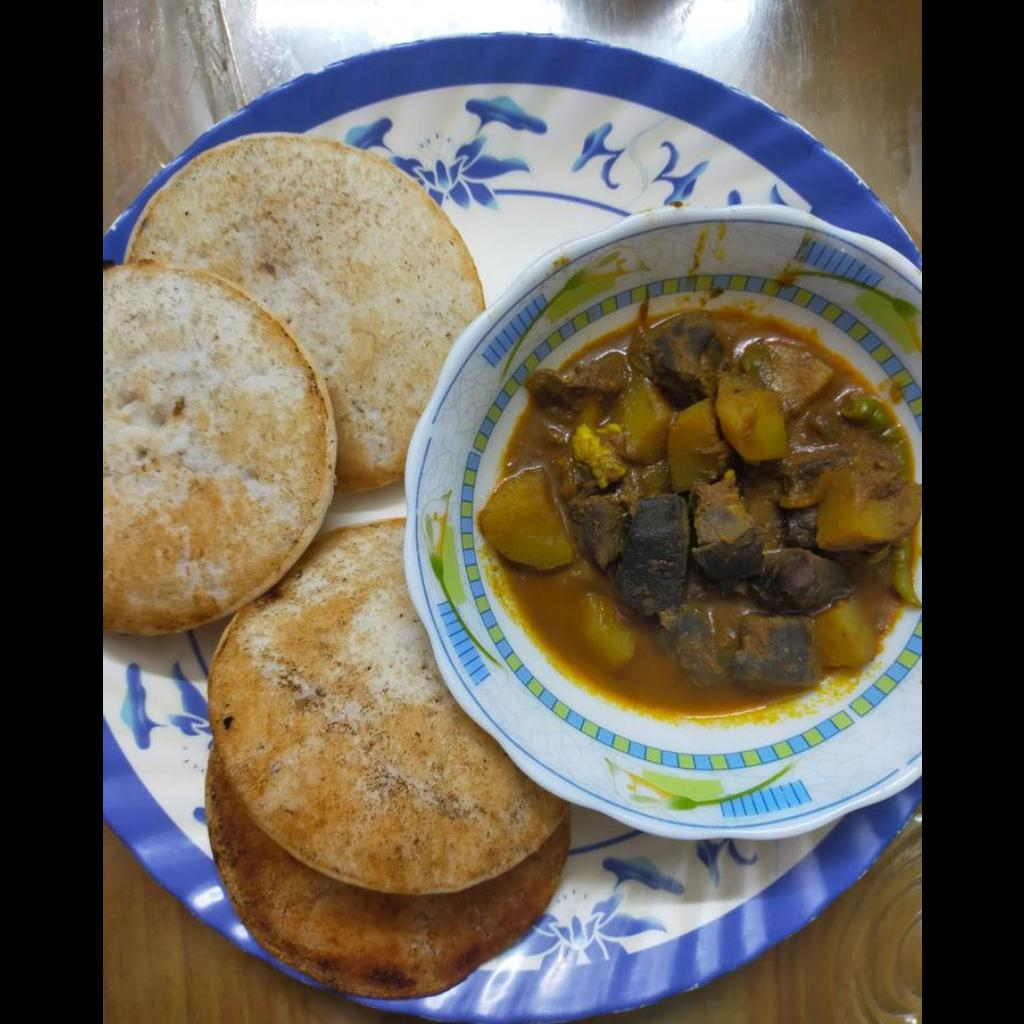beef: (476, 291, 920, 721)
ruti: (102, 135, 580, 1003)
